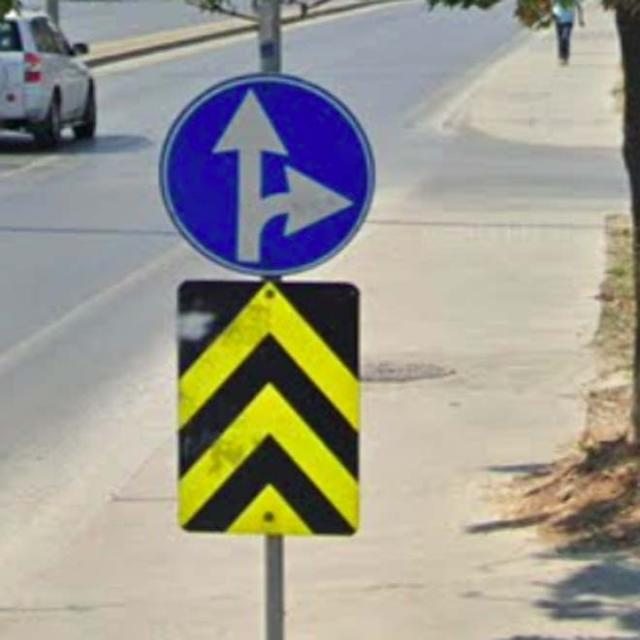ilerisag: (157, 75, 375, 272)
